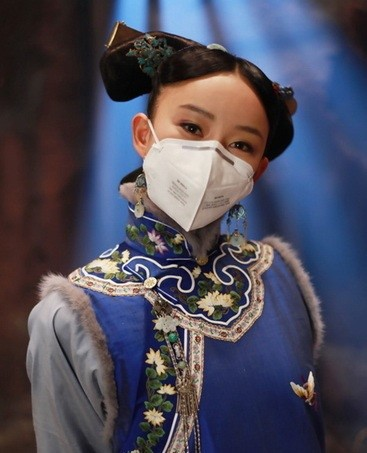face_mask: (150, 77, 265, 231)
